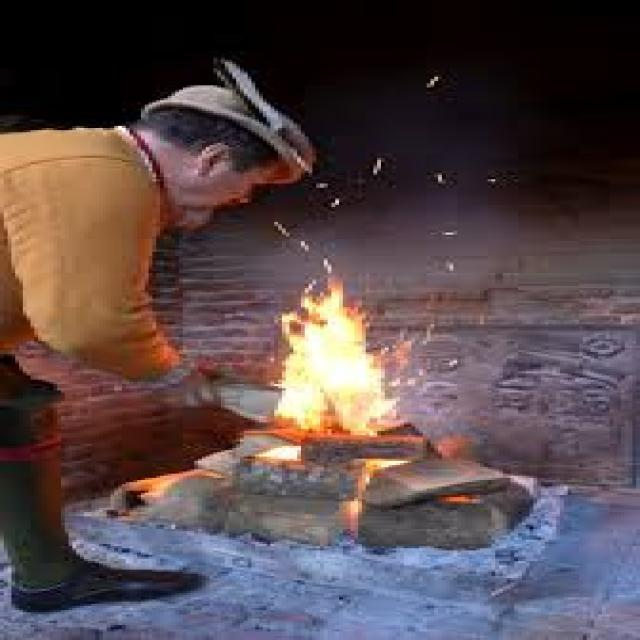fire: (267, 275, 398, 439), (353, 458, 413, 491)
